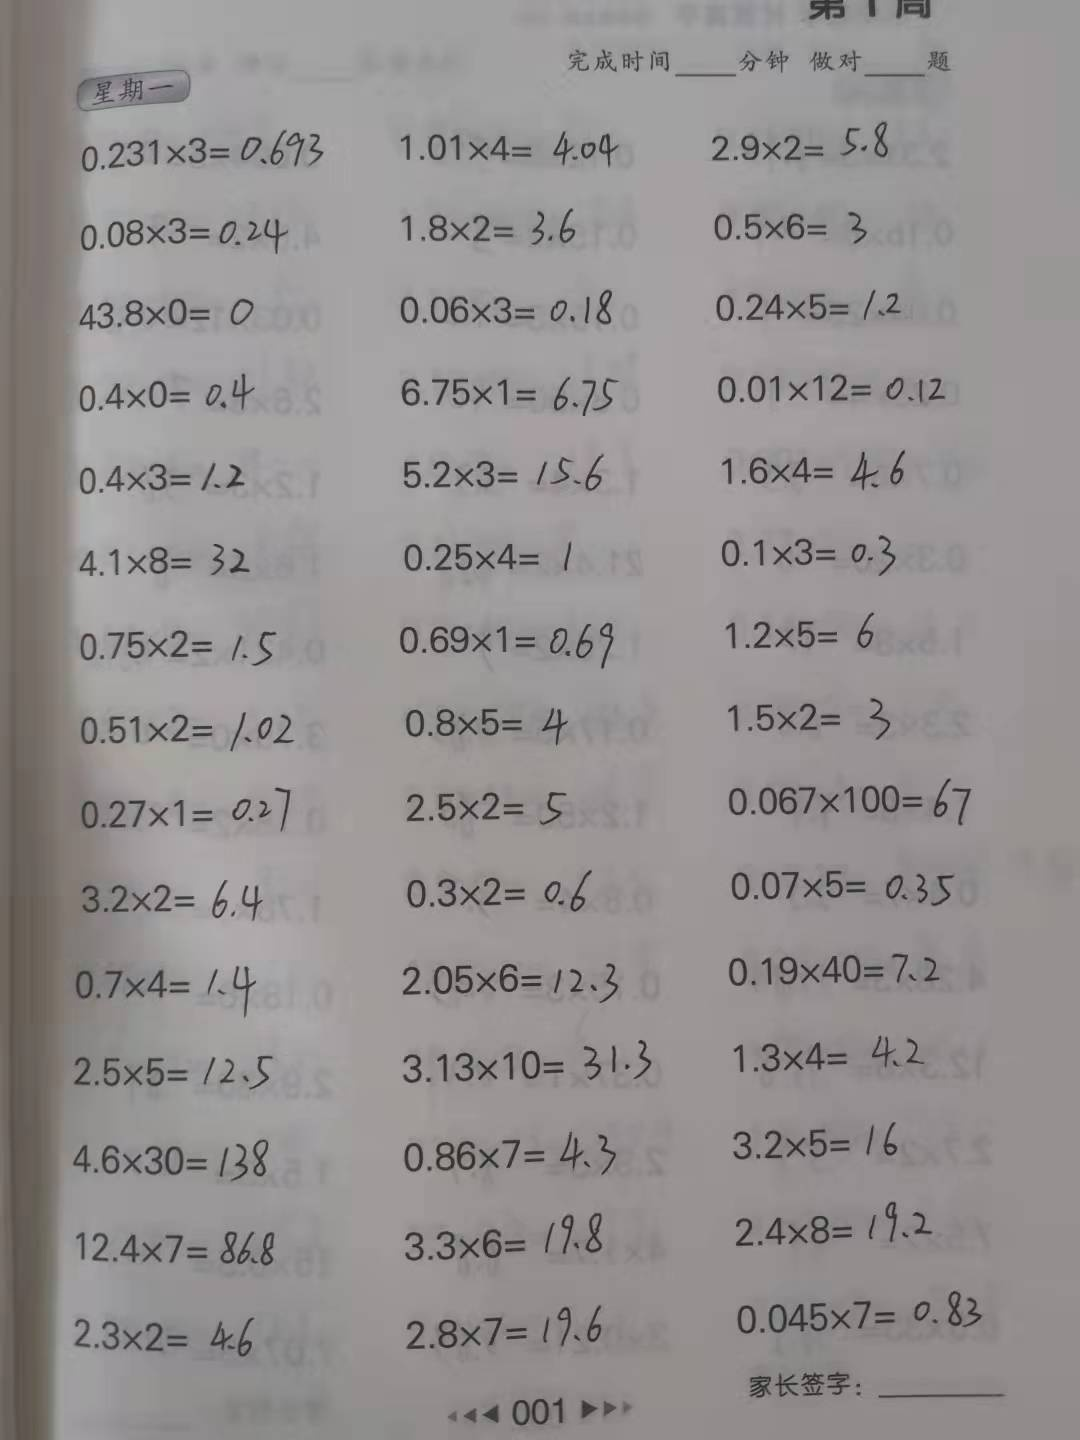equation: (391, 1032, 666, 1098), (720, 1278, 982, 1342), (393, 1200, 615, 1270), (390, 611, 618, 679), (74, 120, 336, 177), (715, 773, 984, 828), (71, 780, 298, 841), (395, 1120, 622, 1181), (395, 361, 624, 420), (400, 1296, 614, 1358), (390, 952, 626, 1008), (66, 1215, 282, 1276), (65, 958, 261, 1024), (387, 282, 628, 336), (395, 859, 600, 922), (704, 364, 961, 414), (729, 1200, 946, 1259), (71, 204, 301, 260), (716, 940, 945, 996), (388, 444, 615, 500), (70, 704, 310, 756), (391, 124, 631, 176), (68, 1306, 265, 1369), (70, 616, 286, 672), (64, 1133, 279, 1189), (720, 859, 963, 909), (68, 1043, 278, 1100), (68, 873, 279, 927), (704, 115, 898, 173), (73, 361, 264, 420), (719, 1111, 909, 1169), (73, 447, 261, 505), (393, 698, 581, 755), (389, 207, 598, 259), (719, 691, 898, 749), (716, 524, 898, 581), (716, 447, 916, 497), (708, 280, 910, 329), (71, 285, 268, 334), (70, 534, 262, 585), (387, 533, 590, 581), (726, 1031, 937, 1076), (395, 782, 579, 833), (708, 200, 877, 253), (718, 605, 884, 659)
